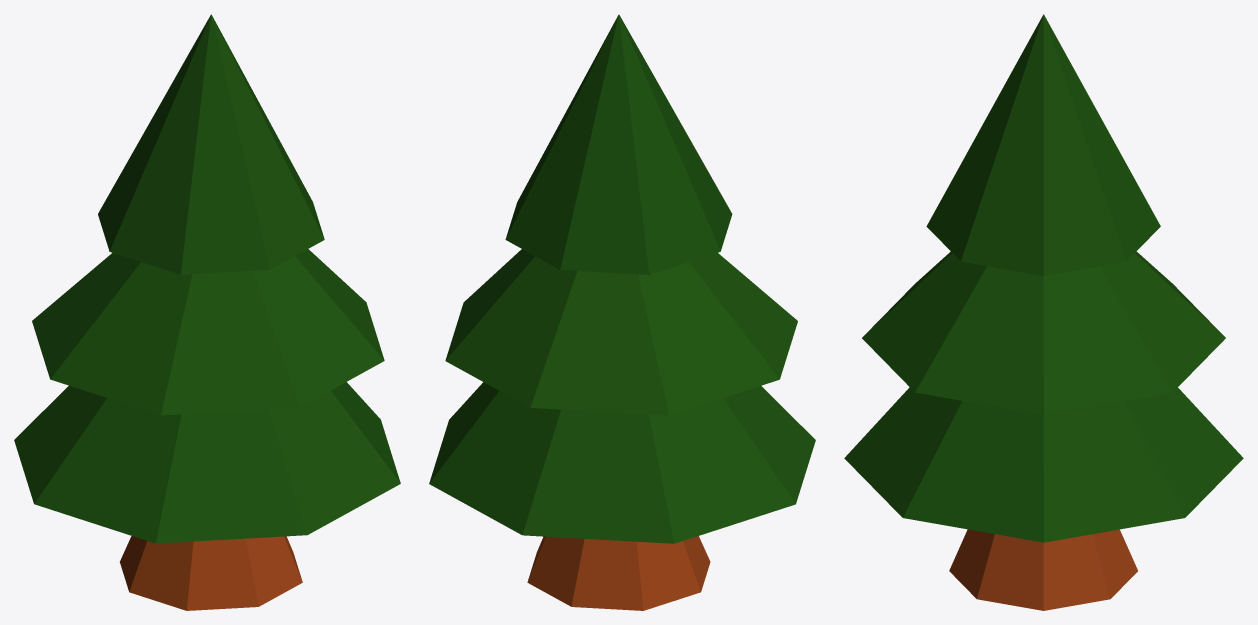
Rendered from pineTree.fbx.
3 views of the same model, side by side, from view 1: azimuth 30°, elevation 25°; view 2: azimuth 150°, elevation 25°; view 3: azimuth 270°, elevation 25° (orthographic).
Parts seen in each view (by area): view 1: Cylinder; view 2: Cylinder; view 3: Cylinder.
Part boxes in pixels (<box>): Cylinder: <box>14,14,400,610</box>; Cylinder: <box>429,14,815,610</box>; Cylinder: <box>844,14,1243,610</box>.
Size of the model in its own units: 179 by 276 by 179.
